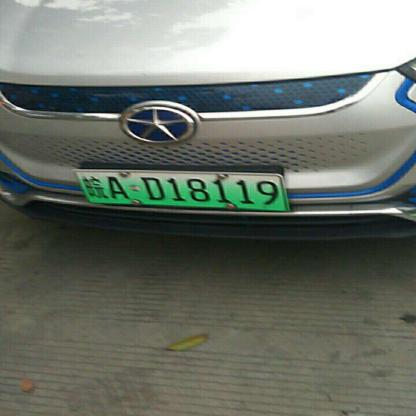lp: (75, 172, 287, 208)
